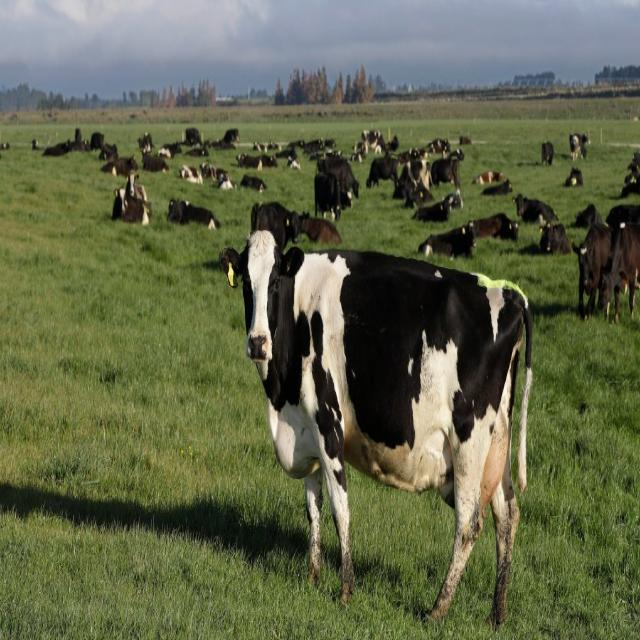cow: (229, 245, 534, 538)
